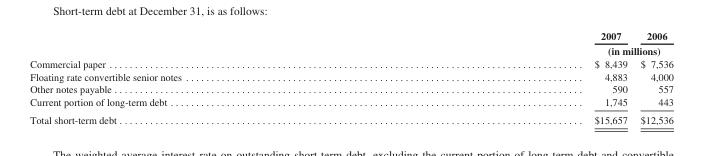table: (29, 29, 672, 125)
table column: (29, 29, 387, 125), (387, 29, 633, 125), (633, 29, 672, 125)
table column header: (29, 29, 672, 56)
table row: (29, 95, 672, 110), (29, 110, 672, 125), (29, 42, 672, 56), (29, 29, 672, 42), (29, 56, 672, 69), (29, 69, 672, 82), (29, 82, 672, 95)
table spanning cell: (387, 42, 672, 56)
